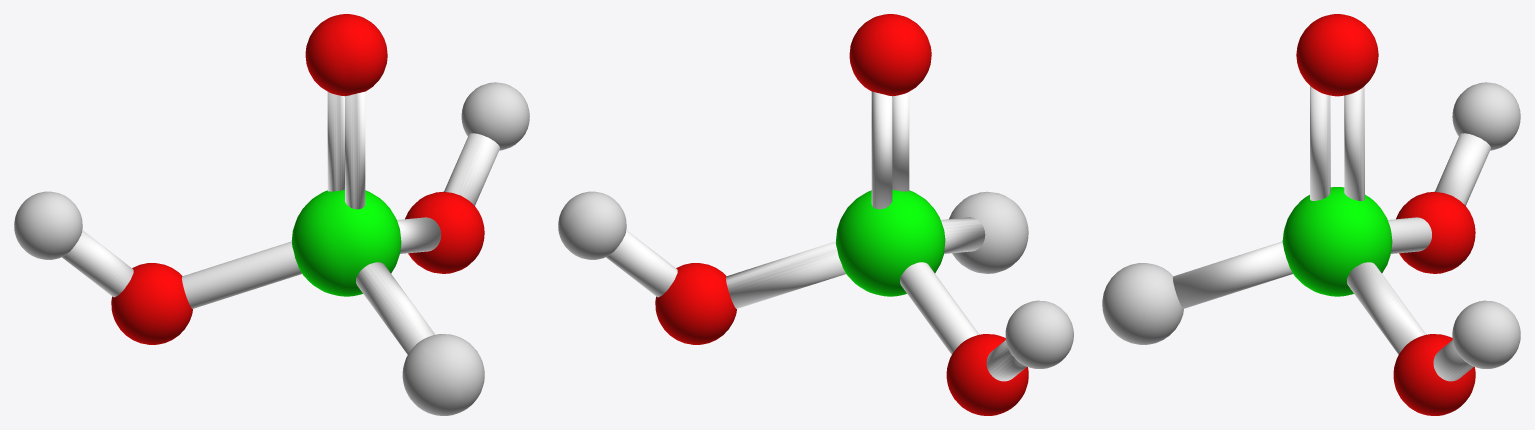
The picture shows the model from 3 angles, left to right: view 1: azimuth 30°, elevation 25°; view 2: azimuth 150°, elevation 25°; view 3: azimuth 270°, elevation 25°; orthographic projection.
Parts seen in each view (by area): view 1: s-o-h.003; view 2: s-o-h.003; view 3: s-o-h.003.
Boxes of the visible parts, left/top/right/bottom form: s-o-h.003: left=14, top=14, right=529, bottom=415; s-o-h.003: left=558, top=14, right=1073, bottom=415; s-o-h.003: left=1102, top=14, right=1520, bottom=415.
Bounding box in the file's own units: 852 × 520 × 610.
